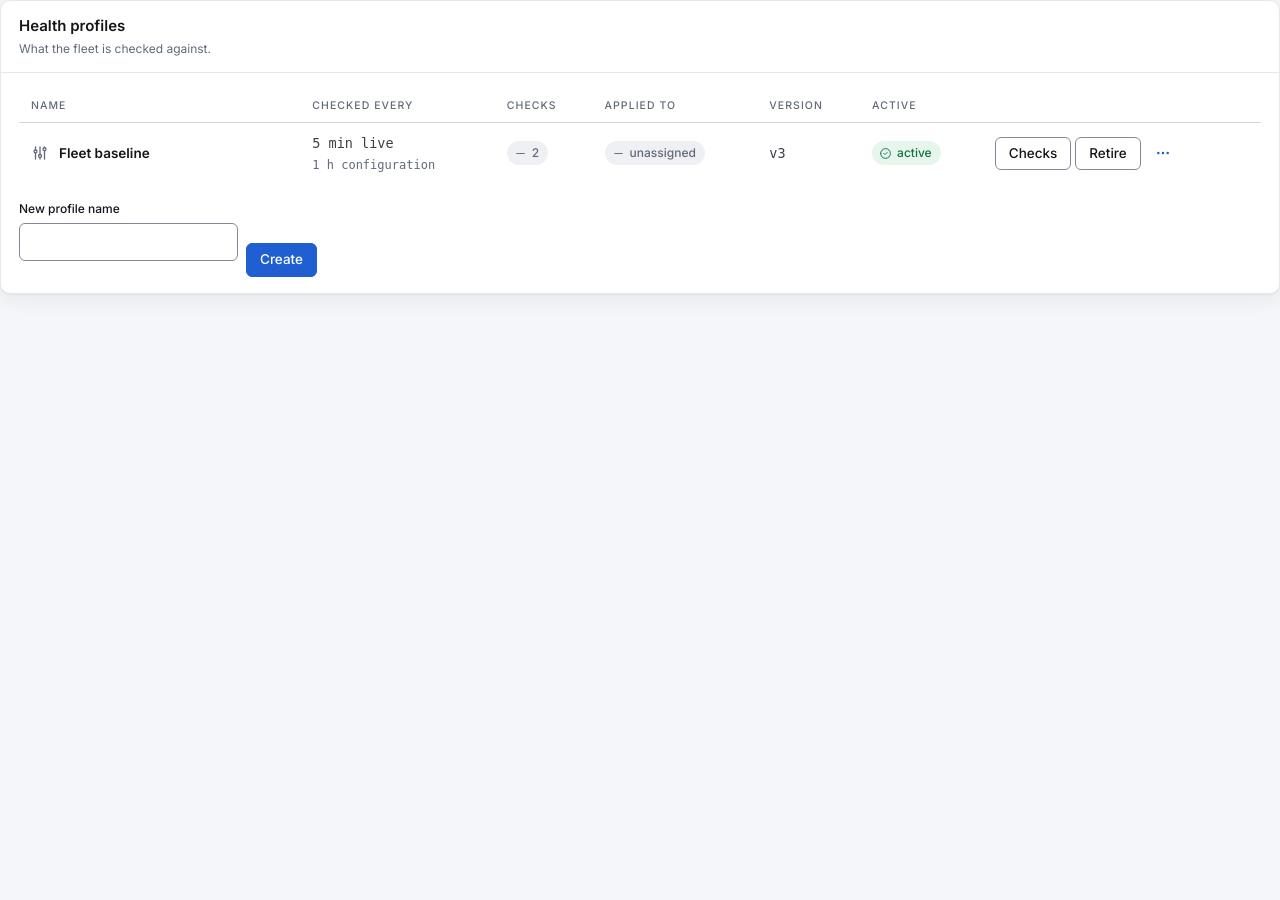
Test: ProfileList — create and row actions › tells the operator a delete failed when the server refused with a bodyless 503
What coordinates should you click on to do the following:
click the button named "More actions for "
I would click on:
 (1163, 153)
Its box is [1145, 135, 1181, 171].
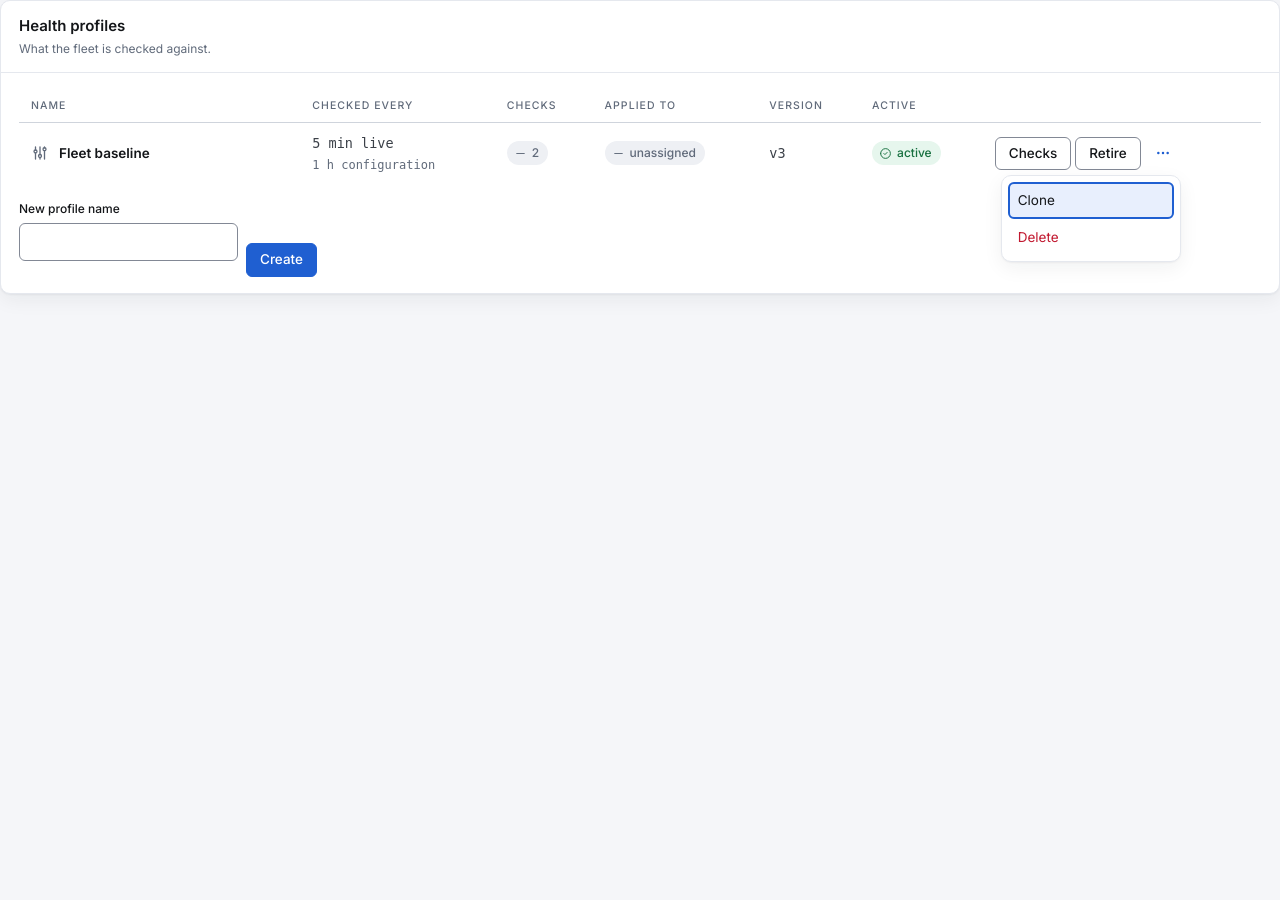
What coordinates should you click on to do the following:
click the menu item "Delete"
I would click on:
 (1091, 237)
Its box is [1008, 219, 1174, 255].
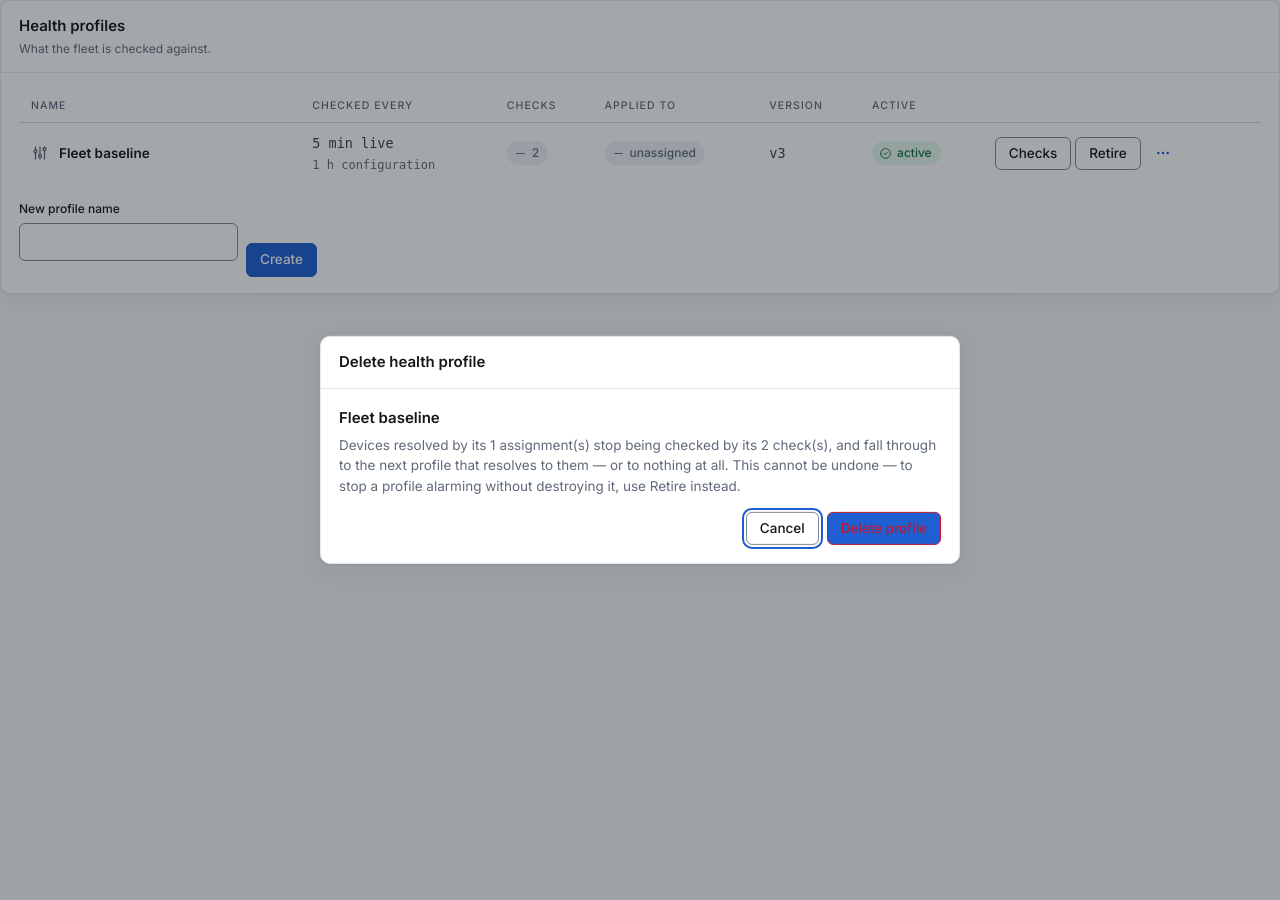
What coordinates should you click on to do the following:
click the button "Delete profile"
I would click on:
 (884, 528)
Its box is [827, 512, 941, 545].
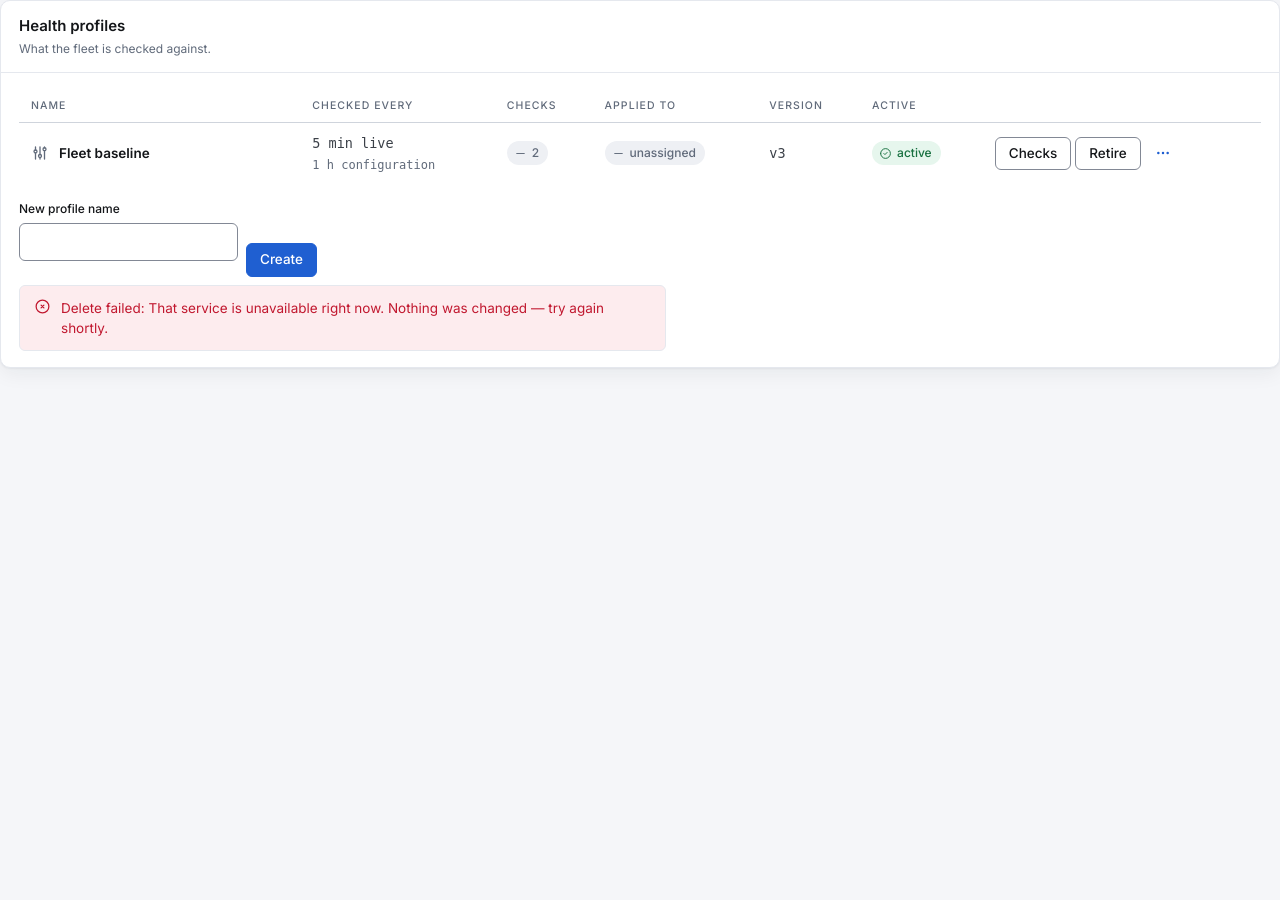
Check: the message shows "Delete failed", box [61, 300, 604, 336]
Check: the message shows "unavailable right now", box [61, 300, 604, 336]
Check: the message shows "Nothing was changed", box [61, 300, 604, 336]
